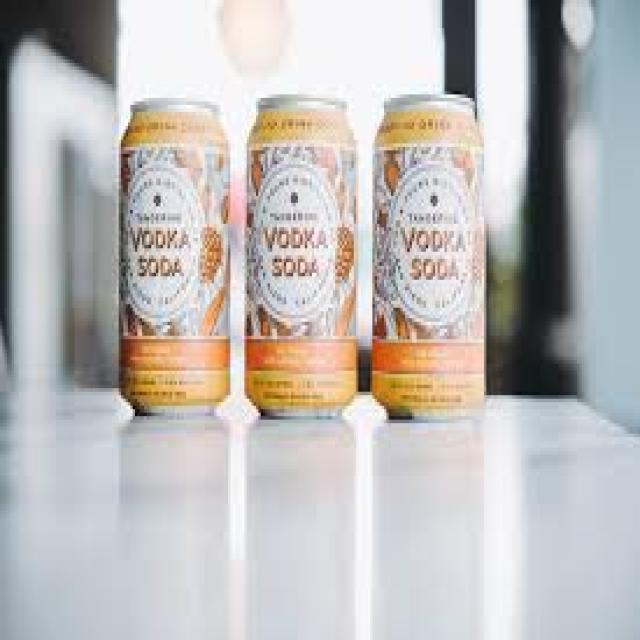Cans: (240, 91, 363, 423), (368, 91, 491, 420), (114, 91, 237, 413)
